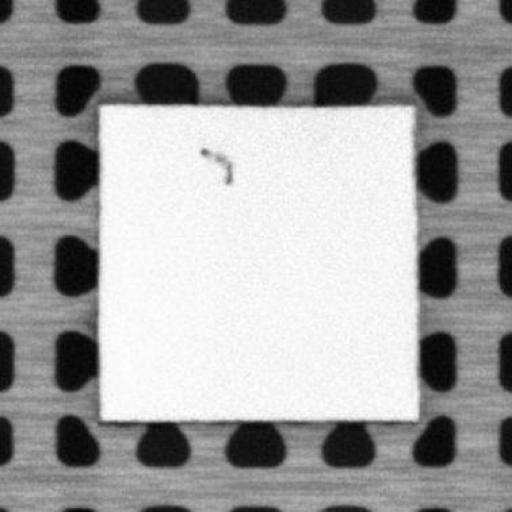DIE_INK: (198, 144, 237, 186)
